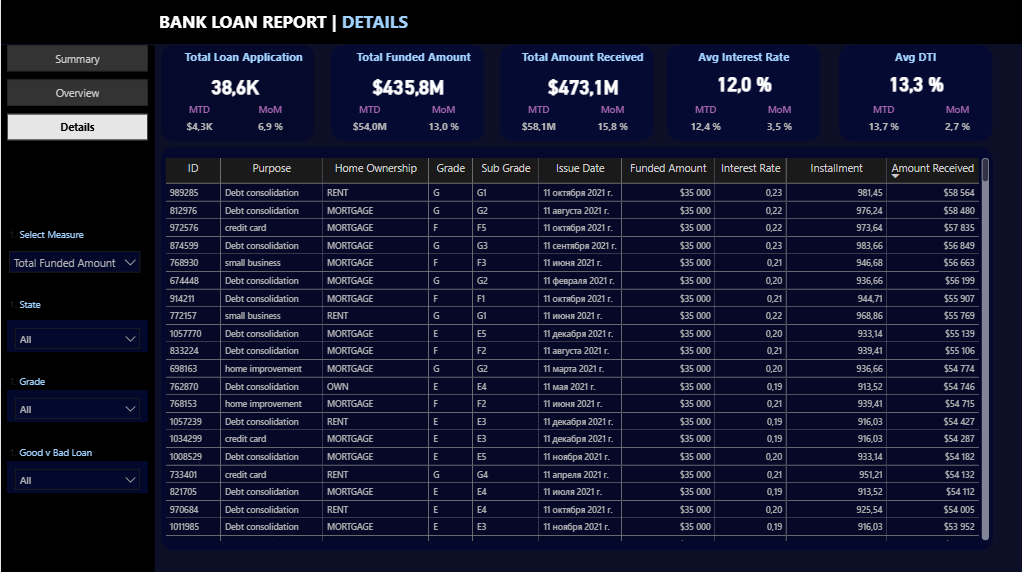

Layout of this report page (visuals, bound fields, positions):
{"tool":"powerbi","page":{"name":"Details","canvas":[1280,720],"ordinal":2},"visuals":[{"type":"shape","box":[0,0,1280,55],"z":0},{"type":"shape","box":[200,56,192,120],"z":0,"group":"g2"},{"type":"shape","box":[412,56,192,120],"z":0,"group":"g1"},{"type":"shape","box":[624,56,192,120],"z":0,"group":"g4"},{"type":"shape","box":[832,56,192,120],"z":0,"group":"g3"},{"type":"shape","box":[1048,56,192,120],"z":0,"group":"g5"},{"type":"shape","box":[0,56,192,664],"z":1000},{"type":"textbox","box":[192,8,448,48],"z":2000},{"type":"shape","box":[200,184,1040,504],"z":3000},{"type":"group","id":"g1","title":"Group 1","box":[412,56,200,120],"z":4000},{"type":"card","fields":{"Values":["financial.Total Loan Applications"]},"box":[232,80,120,56],"z":4000,"group":"g2"},{"type":"card","fields":{"Values":["financial.Total Funded Amount"]},"box":[444,80,128,56],"z":4000,"group":"g1"},{"type":"card","fields":{"Values":["financial.Total Amount Received"]},"box":[664,80,128,56],"z":4000,"group":"g4"},{"type":"card","fields":{"Values":["financial.Avg Interest Rate"]},"box":[864,80,128,48],"z":4000,"group":"g3"},{"type":"card","fields":{"Values":["financial.Avg DTI"]},"box":[1080,80,128,48],"z":4000,"group":"g5"},{"type":"group","id":"g2","title":"Group 1","box":[200,56,200,120],"z":5000},{"type":"textbox","box":[208,56,192,32],"z":5000,"group":"g2"},{"type":"textbox","box":[420,56,192,32],"z":5000,"group":"g1"},{"type":"textbox","box":[632,56,192,32],"z":5000,"group":"g4"},{"type":"textbox","box":[832,56,192,32],"z":5000,"group":"g3"},{"type":"textbox","box":[1048,56,192,32],"z":5000,"group":"g5"},{"type":"group","id":"g3","title":"Group 1","box":[832,56,192,120],"z":6000},{"type":"card","title":"MTD","fields":{"Values":["financial.MTD Loan Applications"]},"box":[224,128,48,48],"z":6000,"group":"g2"},{"type":"card","title":"MTD","fields":{"Values":["financial.MTD Funded Amount"]},"box":[428,128,64,48],"z":6000,"group":"g1"},{"type":"card","title":"MTD","fields":{"Values":["financial.MTD Total Amount Received"]},"box":[640,128,64,48],"z":6000,"group":"g4"},{"type":"card","title":"MTD","fields":{"Values":["financial.MTD Avg Int Rate"]},"box":[848,128,64,48],"z":6000,"group":"g3"},{"type":"card","title":"MTD","fields":{"Values":["financial.MTD Avg DTI"]},"box":[1072,128,64,48],"z":6000,"group":"g5"},{"type":"group","id":"g4","title":"Group 1","box":[624,56,200,120],"z":7000},{"type":"card","title":"MoM","fields":{"Values":["financial.MoM Loan Aplications"]},"box":[312,128,48,48],"z":7000,"group":"g2"},{"type":"card","title":"MoM","fields":{"Values":["financial.MoM Funded Amount"]},"box":[524,128,56,48],"z":7000,"group":"g1"},{"type":"card","title":"MoM","fields":{"Values":["financial.MoM Amount Received"]},"box":[736,128,56,48],"z":7000,"group":"g4"},{"type":"card","title":"MoM","fields":{"Values":["financial.MoM Avg Int Rate"]},"box":[944,128,56,48],"z":7000,"group":"g3"},{"type":"card","title":"MoM","fields":{"Values":["financial.MoM Avg DTI"]},"box":[1168,128,56,48],"z":7000,"group":"g5"},{"type":"group","id":"g5","title":"Group 1","box":[1048,56,192,120],"z":8000},{"type":"slicer","fields":{"Values":["financial.address_state"]},"box":[8,400,176,40],"z":9000},{"type":"textbox","box":[0,368,168,32],"z":10000},{"type":"slicer","fields":{"Values":["financial.grade"]},"box":[8,488,176,40],"z":11000},{"type":"textbox","box":[0,464,168,32],"z":12000},{"type":"textbox","box":[0,552,168,32],"z":13000},{"type":"slicer","fields":{"Values":["financial.Good Bad Loans"]},"box":[8,576,176,40],"z":14000},{"type":"slicer","fields":{"Values":["Select Measure.Select Measure"]},"box":[0,304,184,48],"z":15000},{"type":"textbox","box":[0,280,168,40],"z":16000},{"type":"tableEx","fields":{"Values":["financial.id","financial.purpose","financial.home_ownership","financial.grade","financial.sub_grade","financial.issue_date","financial.Total Funded Amount","Sum(financial.int_rate)","Sum(financial.installment)","financial.Total Amount Received"]},"box":[200,192,1040,488],"z":17000},{"type":"pageNavigator","box":[8,56,176,120],"z":18000}]}

Visuals, with their boxes in screenshot pixels (x1, y1, x2, y2), scaled from the page's 1280x720 canvas onto the 1022x572 screenshot:
shape: crop(0, 0, 1021, 44)
shape: crop(160, 44, 313, 140)
shape: crop(329, 44, 482, 140)
shape: crop(498, 44, 652, 140)
shape: crop(664, 44, 818, 140)
shape: crop(837, 44, 990, 140)
shape: crop(0, 44, 153, 571)
textbox: crop(153, 6, 511, 44)
shape: crop(160, 146, 990, 547)
"Group 1" group: crop(329, 44, 489, 140)
card - financial.Total Loan Applications: crop(185, 64, 281, 108)
card - financial.Total Funded Amount: crop(355, 64, 457, 108)
card - financial.Total Amount Received: crop(530, 64, 632, 108)
card - financial.Avg Interest Rate: crop(690, 64, 792, 102)
card - financial.Avg DTI: crop(862, 64, 965, 102)
"Group 1" group: crop(160, 44, 319, 140)
textbox: crop(166, 44, 319, 70)
textbox: crop(335, 44, 489, 70)
textbox: crop(505, 44, 658, 70)
textbox: crop(664, 44, 818, 70)
textbox: crop(837, 44, 990, 70)
"Group 1" group: crop(664, 44, 818, 140)
"MTD" card: crop(179, 102, 217, 140)
"MTD" card: crop(342, 102, 393, 140)
"MTD" card: crop(511, 102, 562, 140)
"MTD" card: crop(677, 102, 728, 140)
"MTD" card: crop(856, 102, 907, 140)
"Group 1" group: crop(498, 44, 658, 140)
"MoM" card: crop(249, 102, 287, 140)
"MoM" card: crop(418, 102, 463, 140)
"MoM" card: crop(588, 102, 632, 140)
"MoM" card: crop(754, 102, 798, 140)
"MoM" card: crop(933, 102, 977, 140)
"Group 1" group: crop(837, 44, 990, 140)
slicer - financial.address_state: crop(6, 318, 147, 350)
textbox: crop(0, 292, 134, 318)
slicer - financial.grade: crop(6, 388, 147, 419)
textbox: crop(0, 369, 134, 394)
textbox: crop(0, 439, 134, 464)
slicer - financial.Good Bad Loans: crop(6, 458, 147, 489)
slicer - Select Measure.Select Measure: crop(0, 242, 147, 280)
textbox: crop(0, 222, 134, 254)
tableEx - financial.id x financial.purpose: crop(160, 153, 990, 540)
pageNavigator: crop(6, 44, 147, 140)
